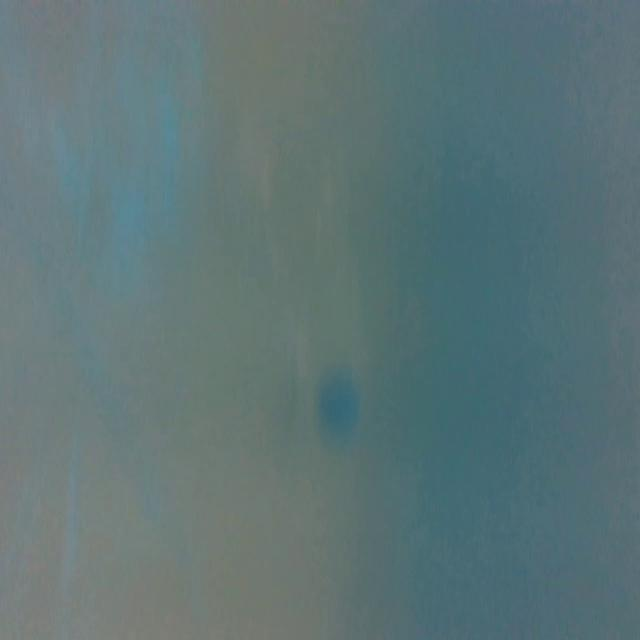plastic bottle: (288, 157, 380, 440)
